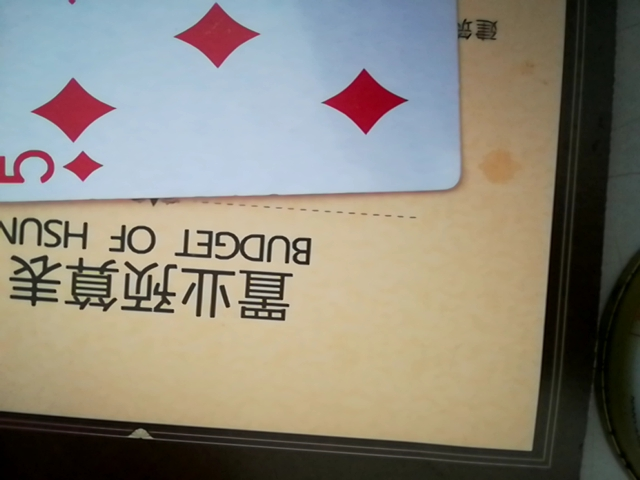fk 5: (0, 0, 465, 204)
